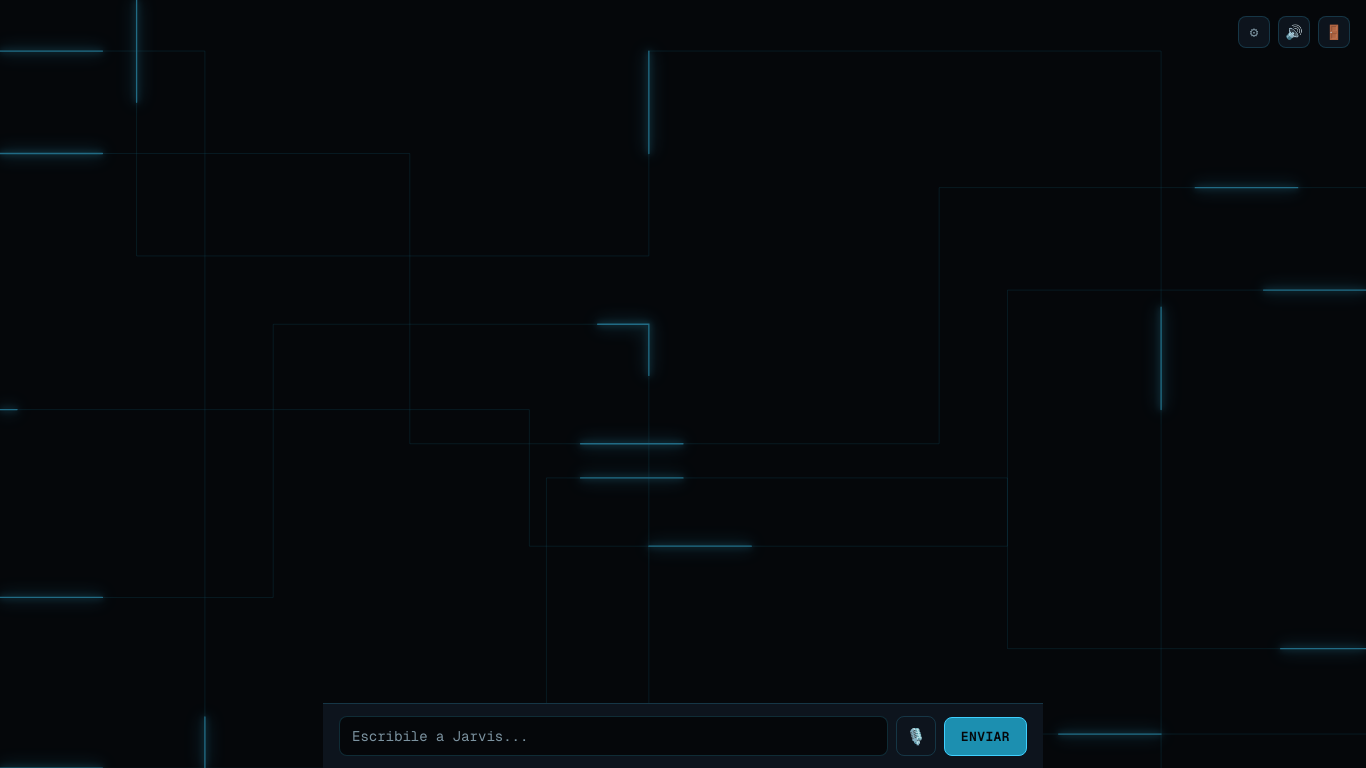
Test case: ChatWindow › sends the typed message and renders the assistant reply
The width and height of the screenshot is (1366, 768).
Type "hola" into the field with placeholder "Escribile a Jarvis..." at (613, 736), box [339,716,888,756]
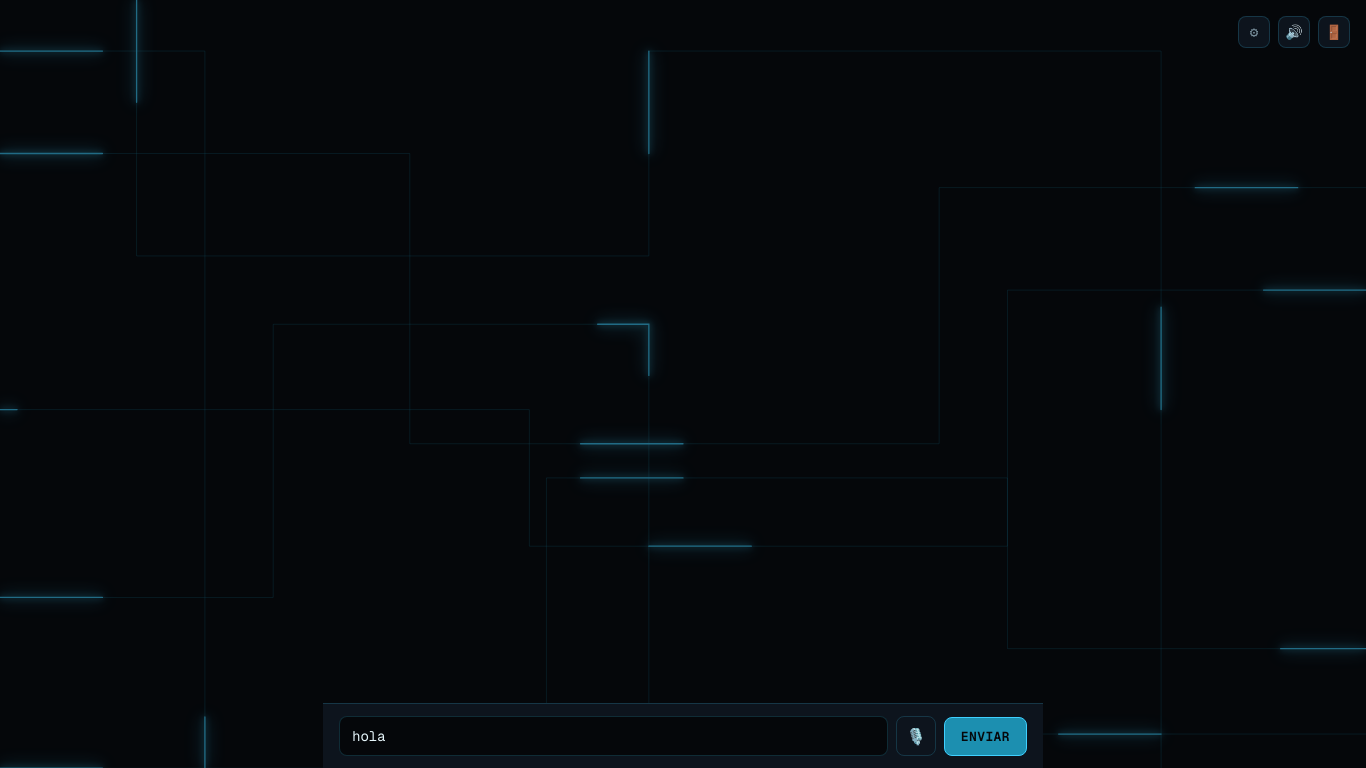
Click the button "Enviar" at (985, 736), box [944,716,1027,756]
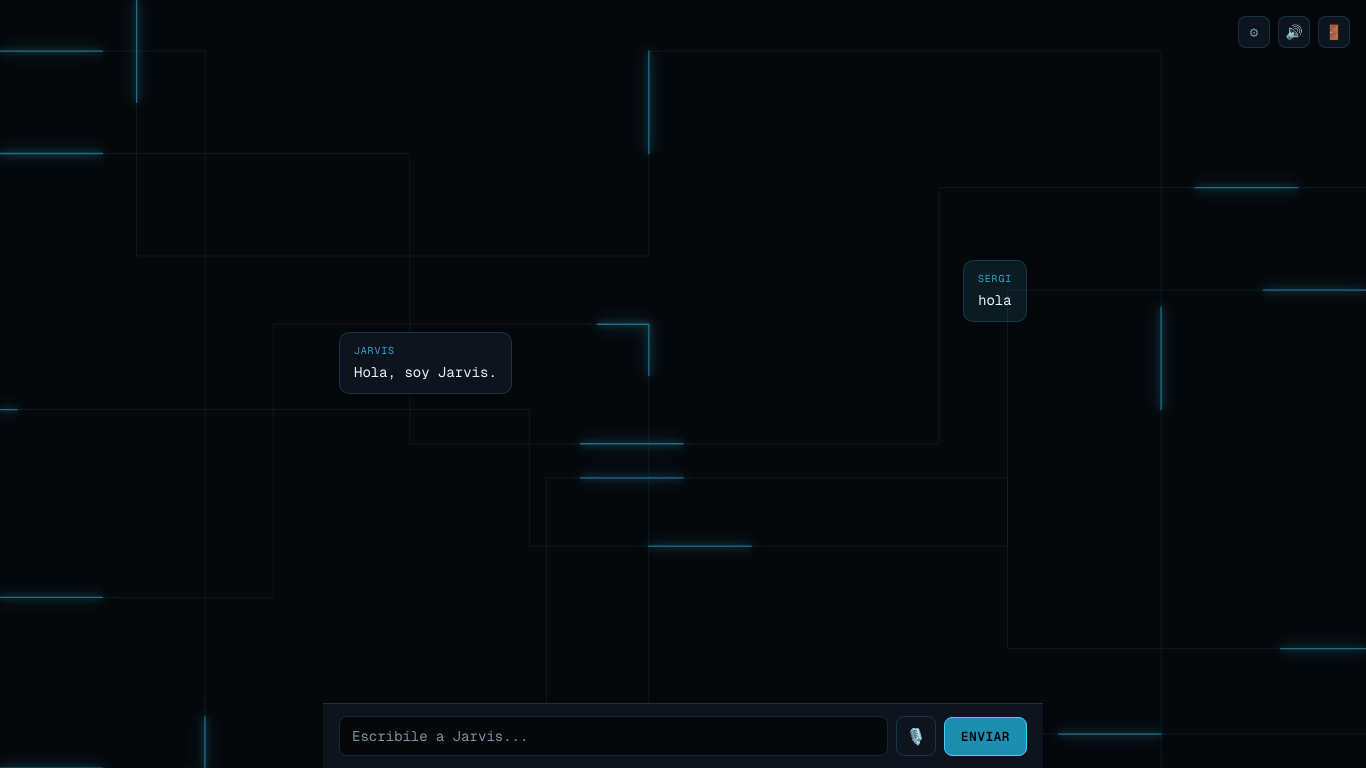
Check: the text "Hola, soy Jarvis." is shown, box [354,363,497,381]
